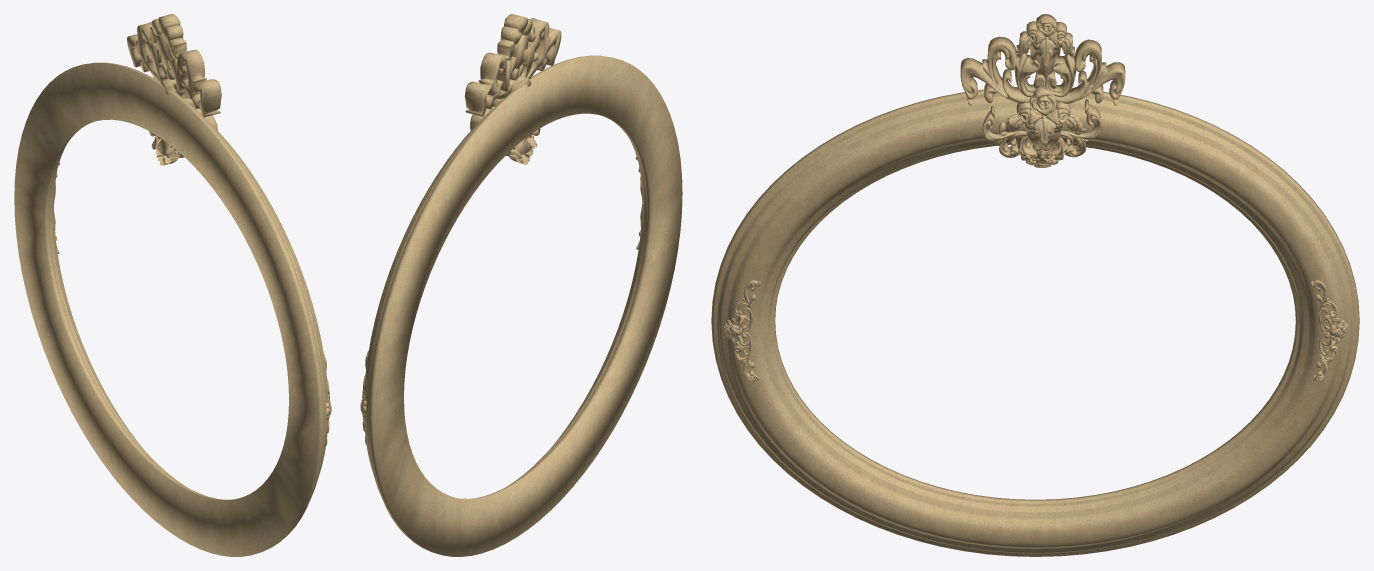
The model's file is mirror.001.obj.
The picture shows the model from 3 angles, left to right: view 1: azimuth 30°, elevation 25°; view 2: azimuth 150°, elevation 25°; view 3: azimuth 270°, elevation 25°; orthographic projection. The views are drawn at different scales.
Parts seen in each view (by area): view 1: mirror.001_mirror.002; view 2: mirror.001_mirror.002; view 3: mirror.001_mirror.002.
Boxes of the visible parts, box(x1,y1,x2,y2) form: mirror.001_mirror.002: box(14, 14, 331, 556); mirror.001_mirror.002: box(360, 14, 682, 556); mirror.001_mirror.002: box(711, 14, 1359, 556).
Size of the model in its own units: 0.0824 by 0.9953 by 1.08.
1 material, 1 textured.
